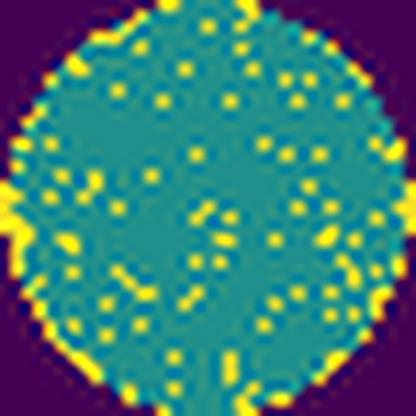Edge-Loc: (16, 269, 113, 386), (0, 177, 30, 279), (391, 176, 416, 241)
